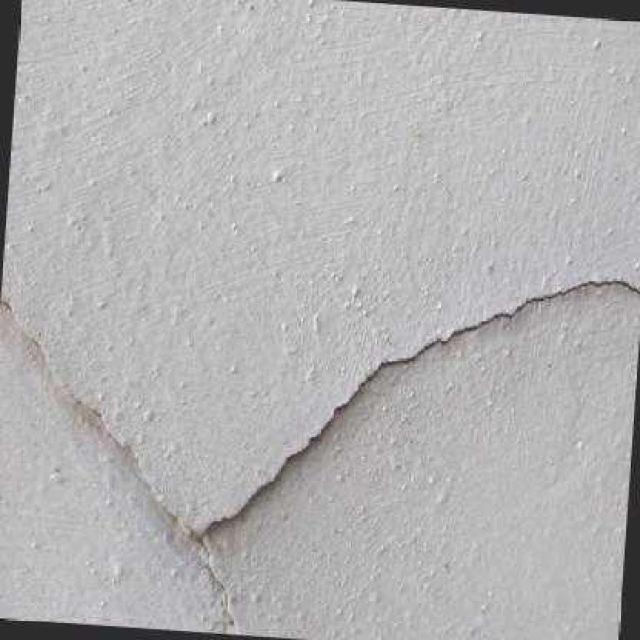D00: (1, 277, 640, 635)
